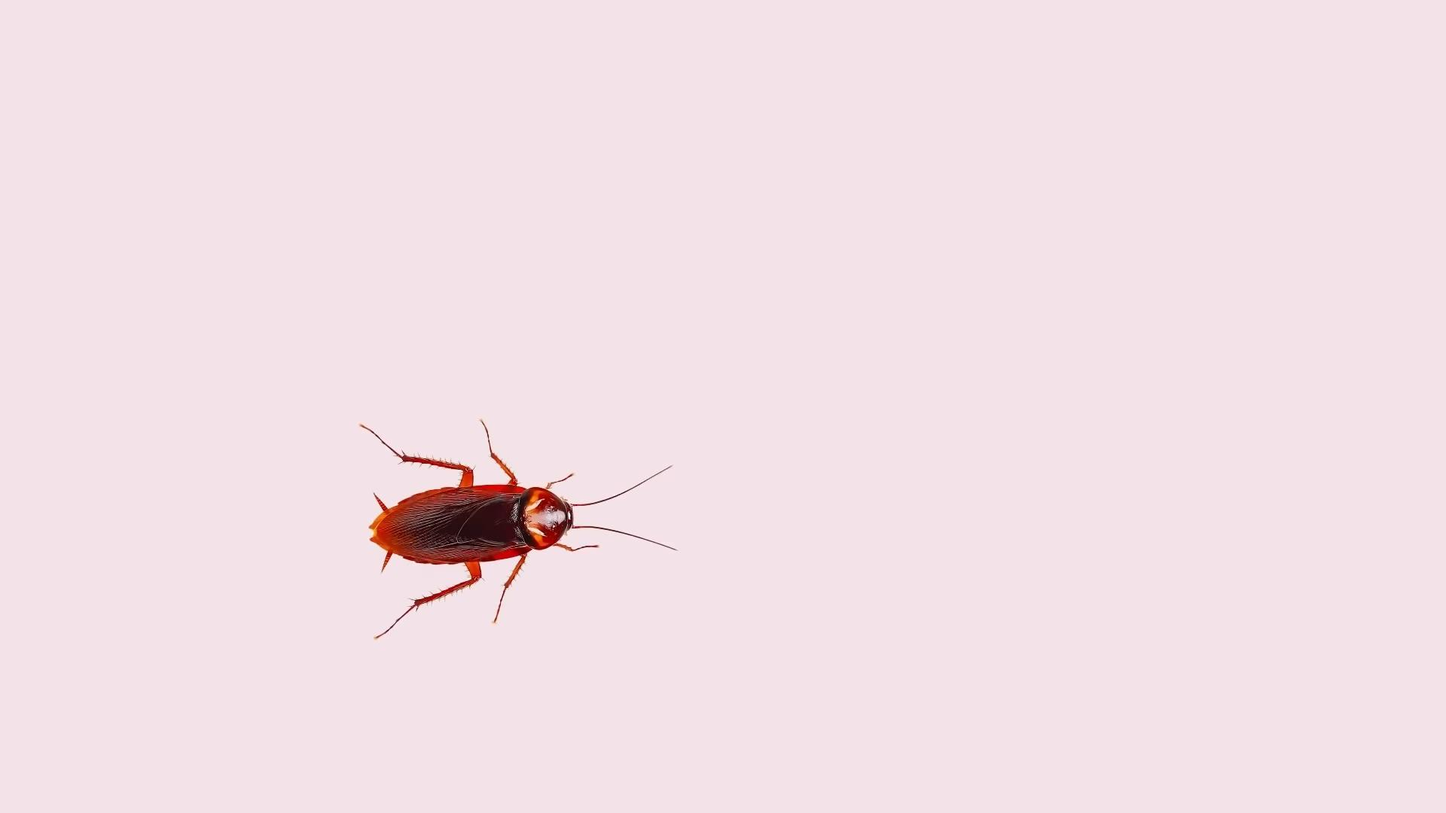cockroach: (351, 416, 659, 605)
